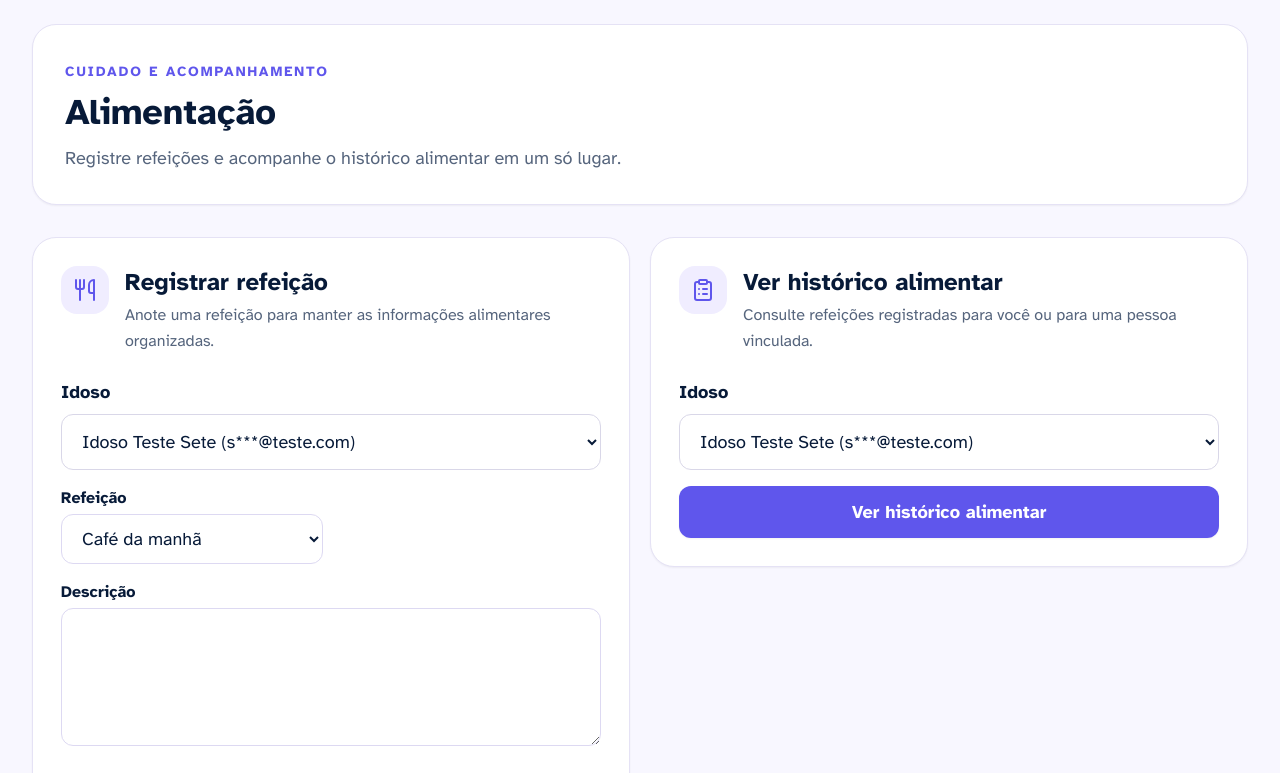
Test: Alimentacao: acessibilidade da seção Ver histórico alimentar (item 7.2) › sucesso com itens
Click the button "Ver histórico alimentar": (949, 512) [679,486,1219,538]
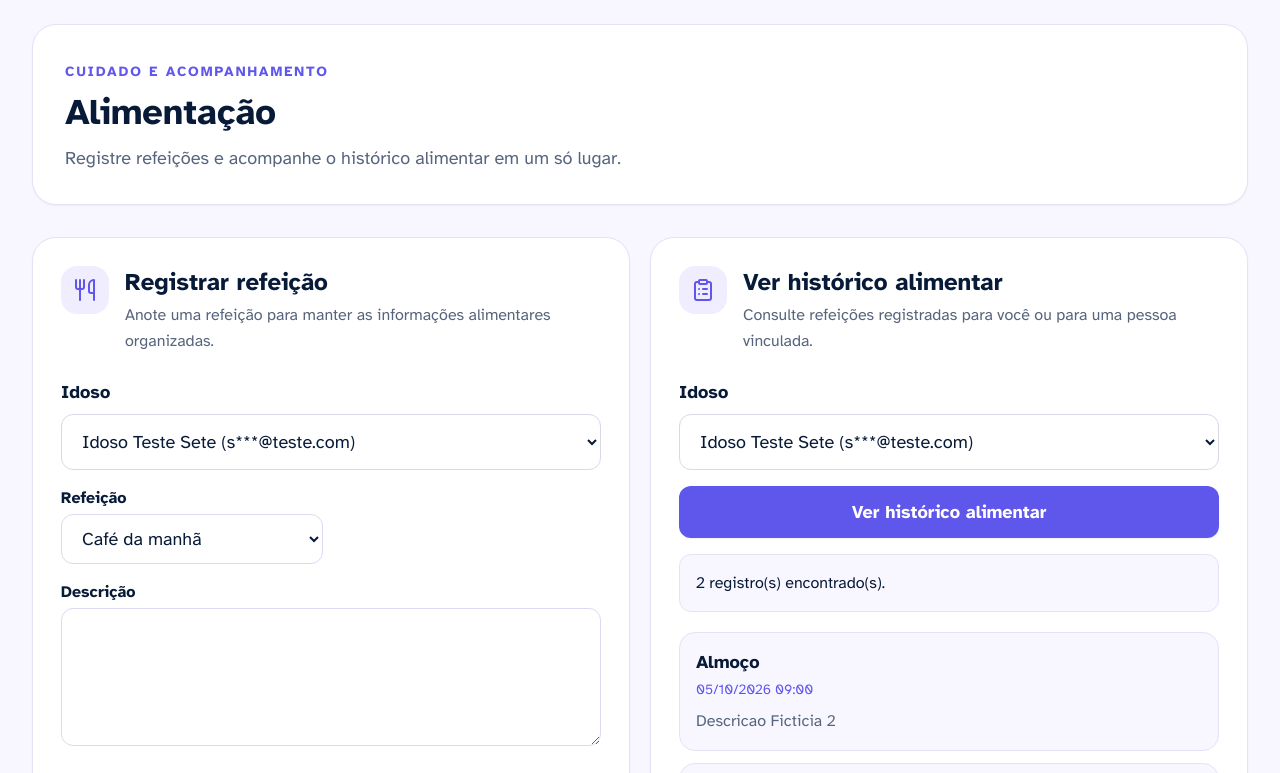
Result: the message "2 registro(s) encontrado(s)." is shown at [679,554,1219,612]
